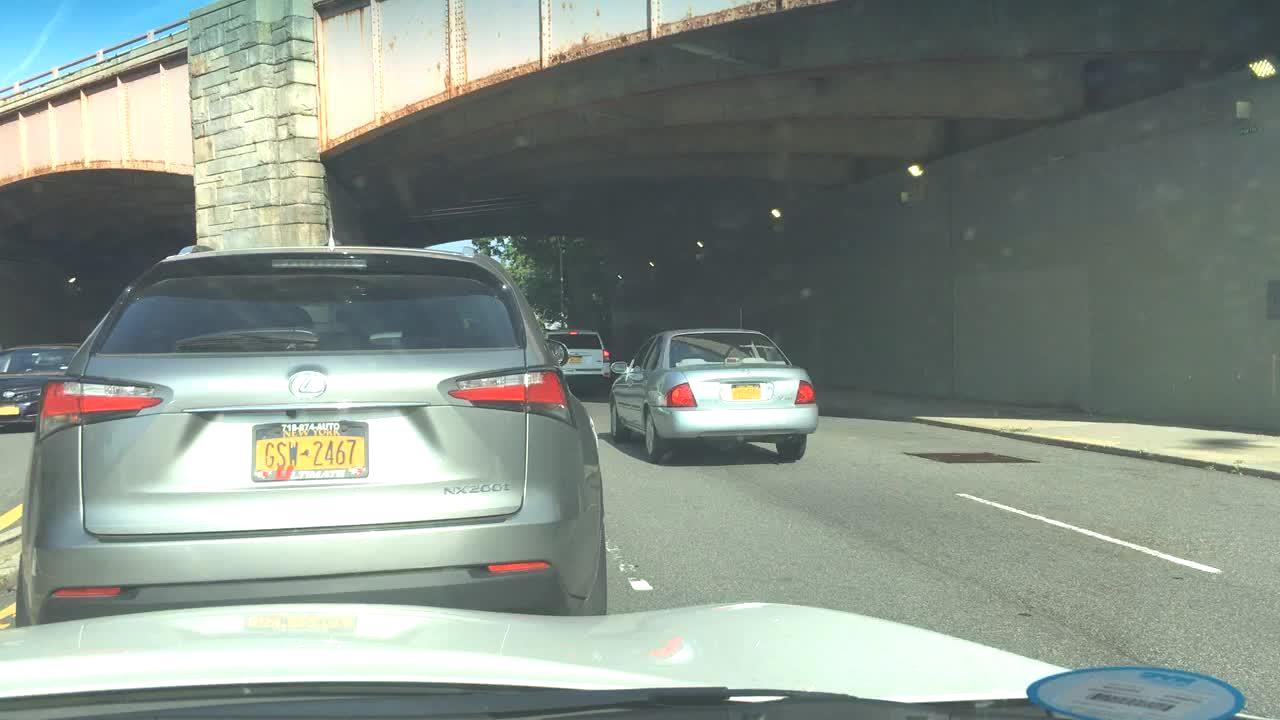lexus: (288, 366, 326, 403)
